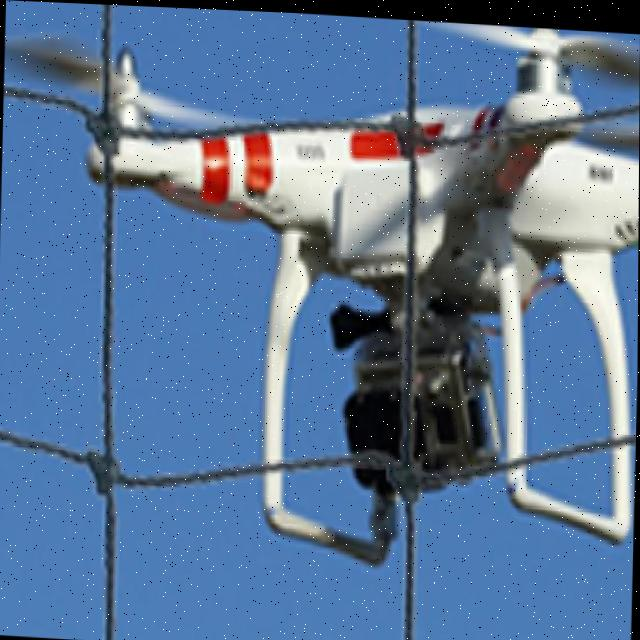drones: (2, 0, 640, 583)
